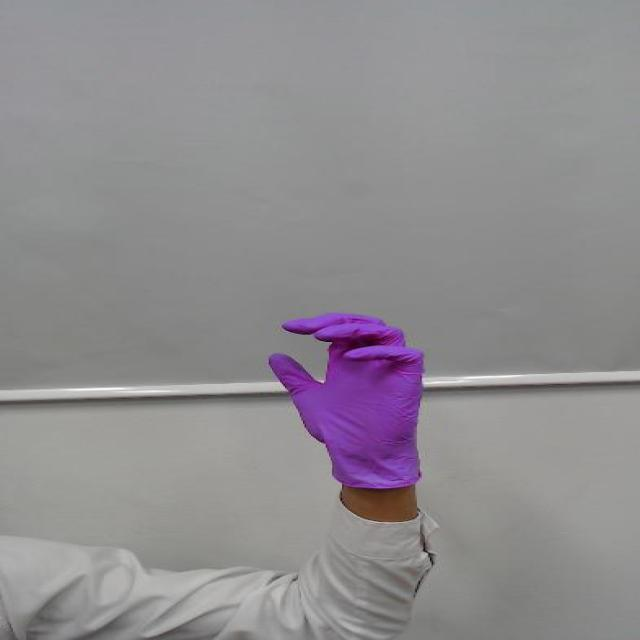gloved_hand: (249, 300, 453, 444)
